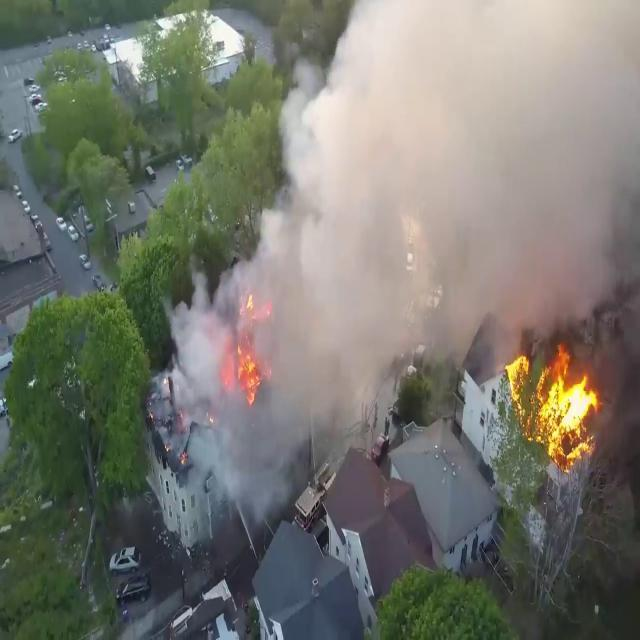Fire: (500, 334, 604, 467)
Smoke: (172, 0, 640, 500)
